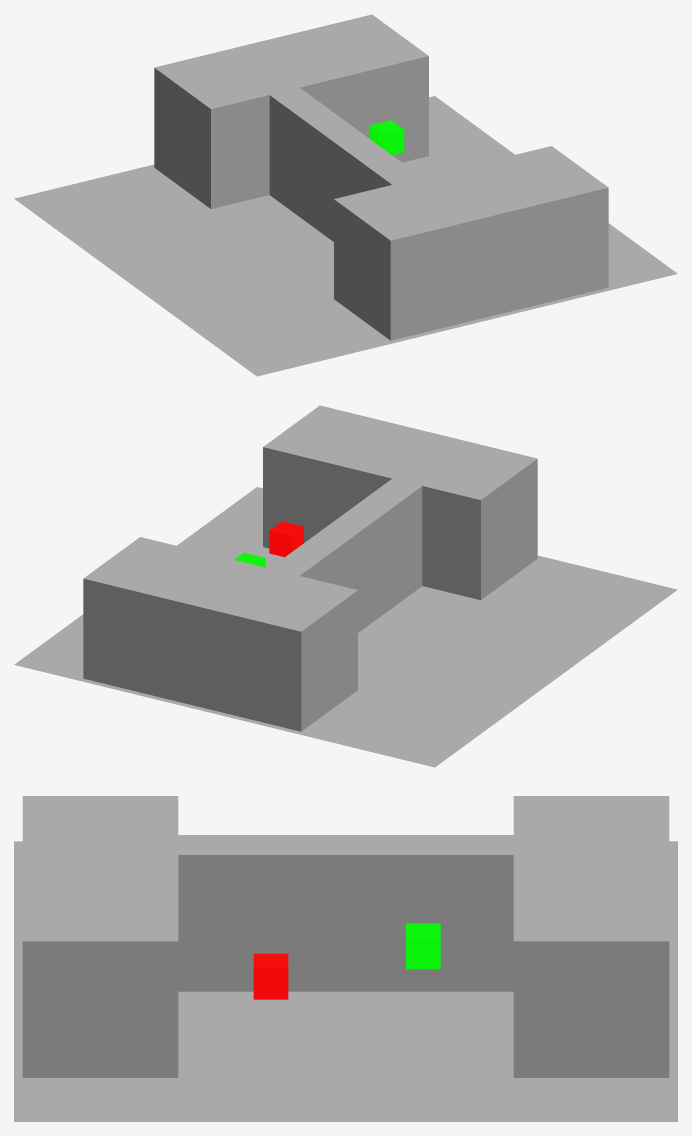
Rendered from simple_scene.gltf.
The picture shows the model from 3 angles, top to bottom: view 1: azimuth 30°, elevation 25°; view 2: azimuth 150°, elevation 25°; view 3: azimuth 270°, elevation 25°; orthographic projection. The views are drawn at different scales.
Parts seen in each view (by area): view 1: 平面, 立方体.001; view 2: 平面, 立方体; view 3: 平面, 立方体, 立方体.001.
Part boxes in pixels (x1=…): 平面: x1=14, y1=14, x2=677, y2=376; 立方体.001: x1=369, y1=120, x2=404, y2=155; 平面: x1=14, y1=405, x2=677, y2=767; 立方体: x1=269, y1=521, x2=303, y2=557; 平面: x1=14, y1=796, x2=677, y2=1121; 立方体: x1=253, y1=953, x2=288, y2=999; 立方体.001: x1=406, y1=923, x2=440, y2=969.
Size of the model in its own units: 8.54 by 2 by 8.54.
